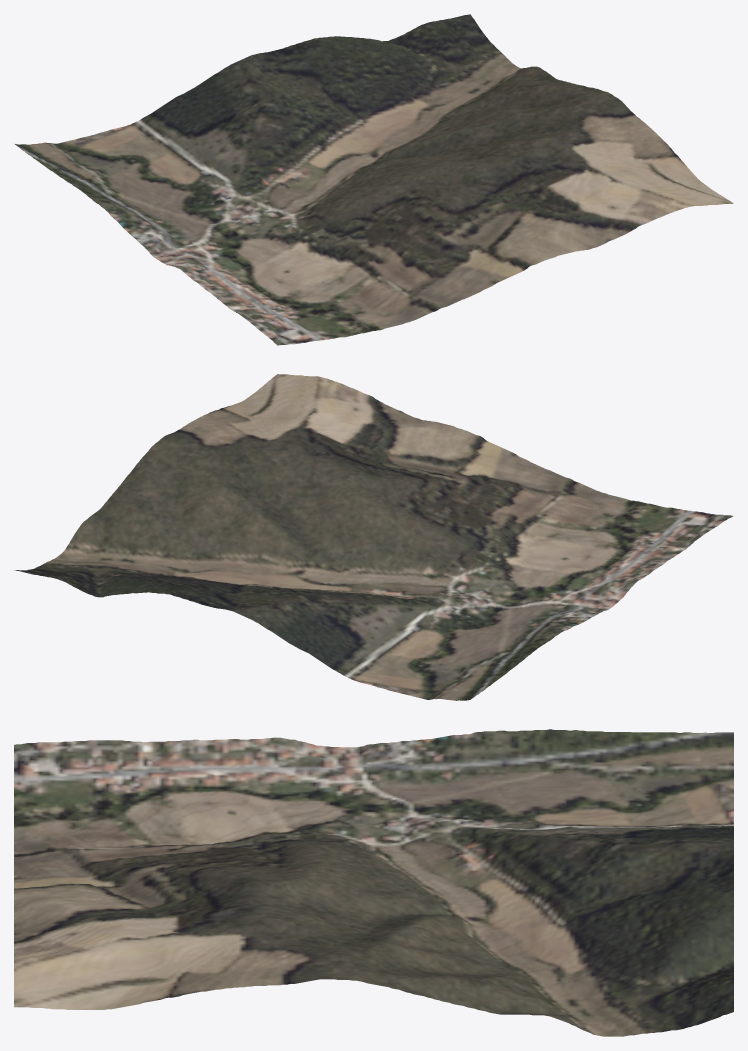
File: tile.gltf
3 renders of one model, top to bottom at view 1: azimuth 30°, elevation 25°; view 2: azimuth 150°, elevation 25°; view 3: azimuth 270°, elevation 25°, orthographic. The views are drawn at different scales.
Parts seen in each view (by area): view 1: IGN MDT05 terrain tile_3_3; view 2: IGN MDT05 terrain tile_3_3; view 3: IGN MDT05 terrain tile_3_3.
Boxes of the visible parts, x1,y1,x2,y2 form: IGN MDT05 terrain tile_3_3: (15, 14, 733, 345); IGN MDT05 terrain tile_3_3: (14, 374, 733, 700); IGN MDT05 terrain tile_3_3: (14, 729, 733, 1036).
Size of the model in its own units: 1000 by 127 by 1000.
1 material, 1 textured.
